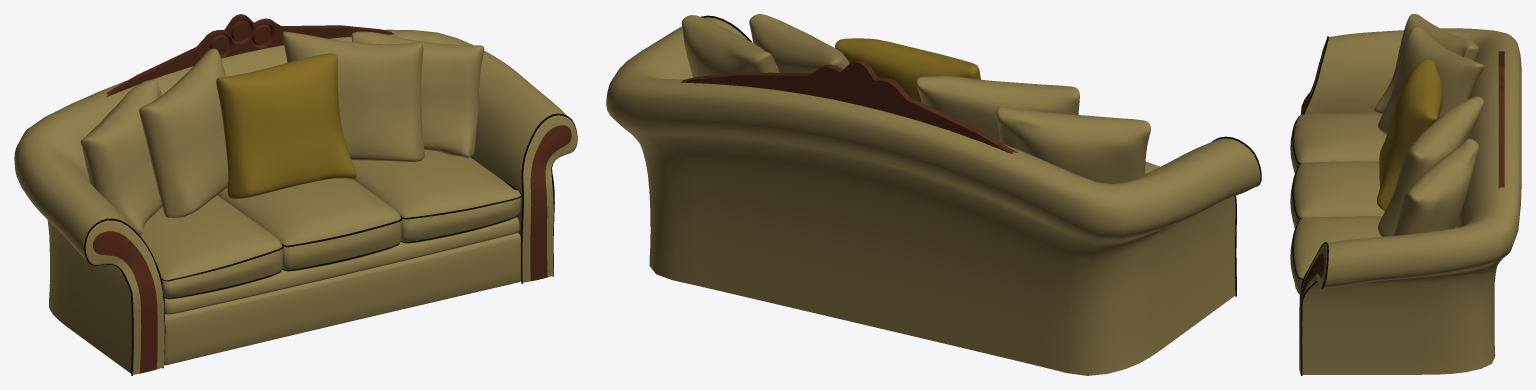
The model's file is o_env_sofaA.FBX.
3 views of the same model, side by side, from view 1: azimuth 30°, elevation 25°; view 2: azimuth 150°, elevation 25°; view 3: azimuth 270°, elevation 25° (orthographic). The views are drawn at different scales.
Parts seen in each view (by area): view 1: o_env_sofaA; view 2: o_env_sofaA; view 3: o_env_sofaA.
Part boxes in pixels (x1,y1,x2,y2): o_env_sofaA: (14,14,577,375); o_env_sofaA: (606,14,1261,375); o_env_sofaA: (1290,14,1521,375).
Size of the model in its own units: 276 by 124 by 121.
